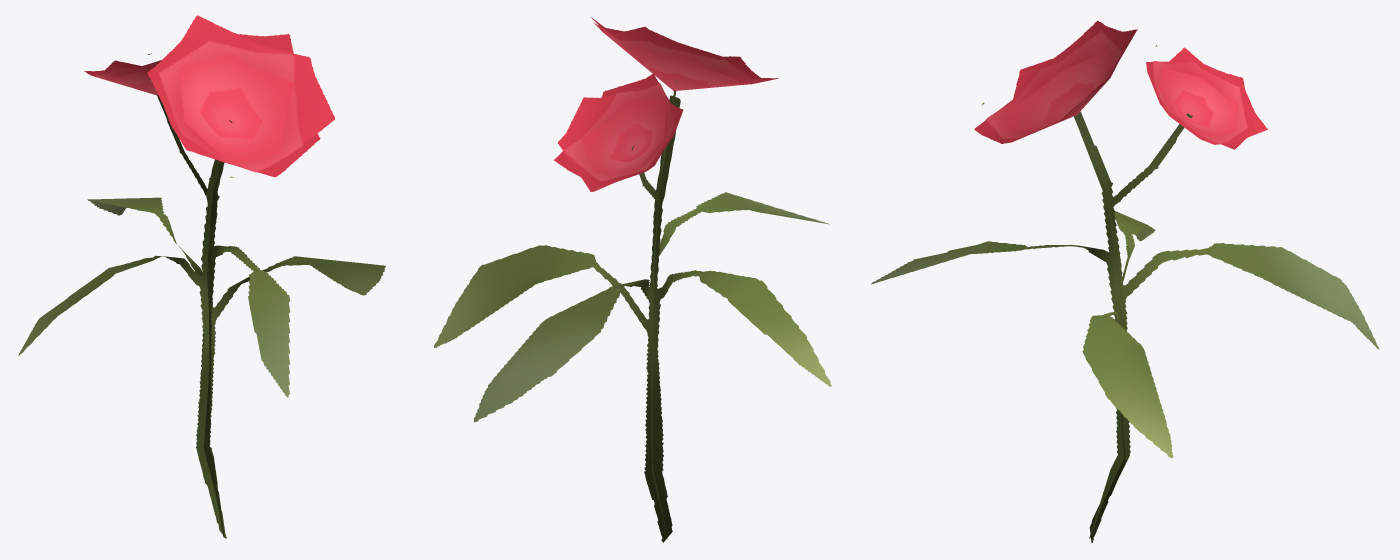
Rendered from FlowerRed.FBX.
The picture shows the model from 3 angles, left to right: view 1: azimuth 30°, elevation 25°; view 2: azimuth 150°, elevation 25°; view 3: azimuth 270°, elevation 25°; orthographic projection. The views are drawn at different scales.
Parts seen in each view (by area): view 1: SM_FlowerRod009; view 2: SM_FlowerRod009; view 3: SM_FlowerRod009.
Boxes of the visible parts, left/top/right/bottom form: SM_FlowerRod009: left=18, top=15, right=385, bottom=538; SM_FlowerRod009: left=434, top=17, right=831, bottom=542; SM_FlowerRod009: left=871, top=20, right=1379, bottom=542.
Size of the model in its own units: 13.19 by 17.36 by 15.82.
